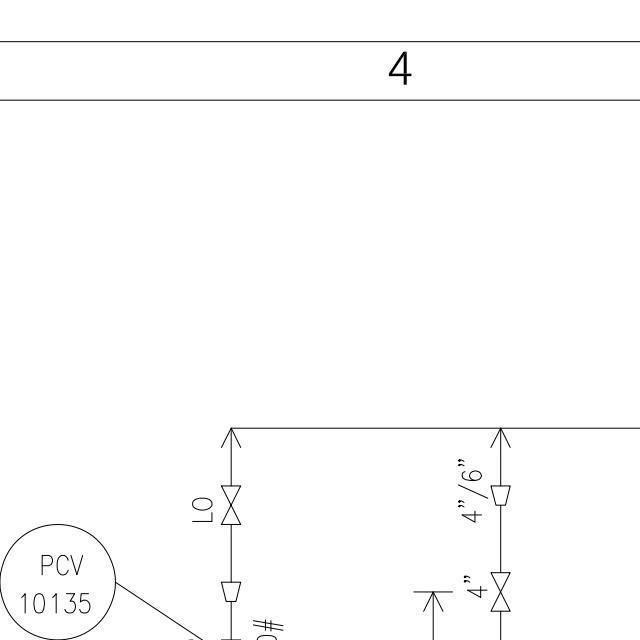GV: (218, 480, 244, 532), (489, 569, 514, 617)
SP: (487, 480, 516, 510), (216, 577, 243, 607)
